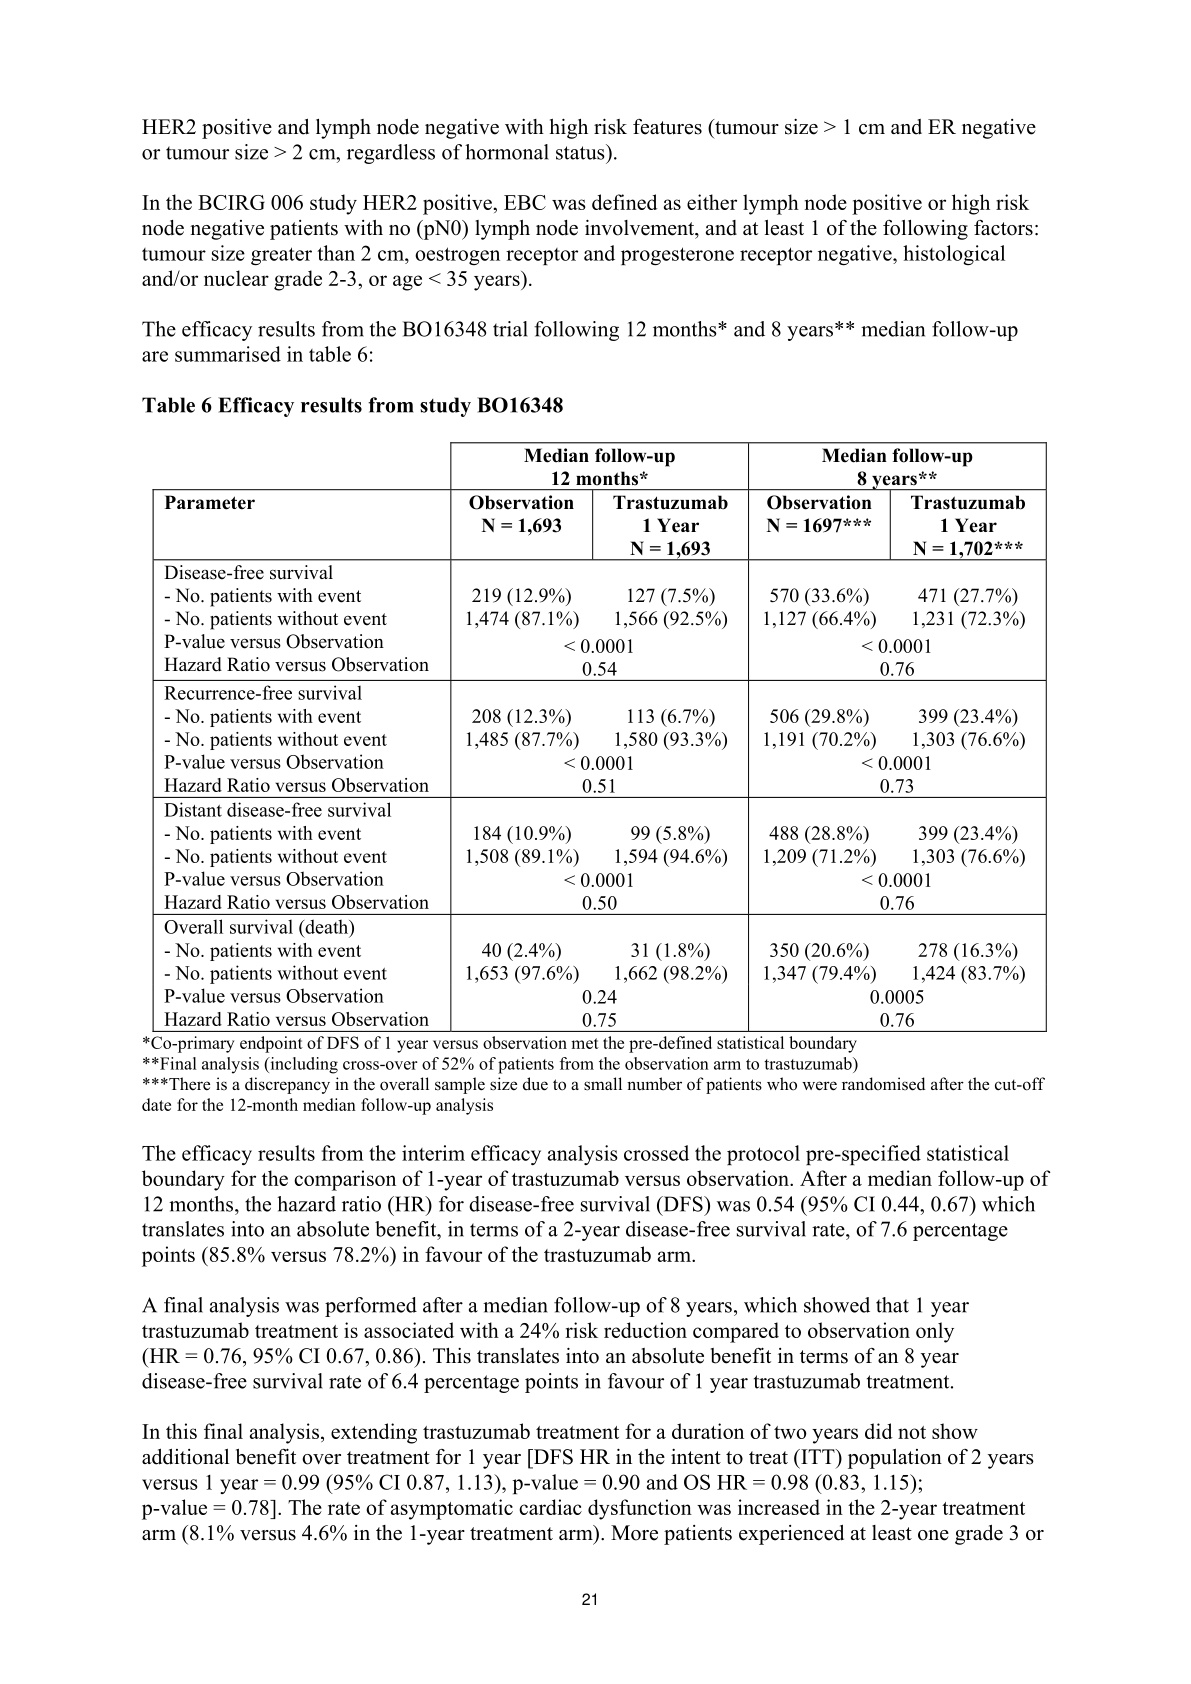merged_cells: (150, 438, 1049, 1035)
